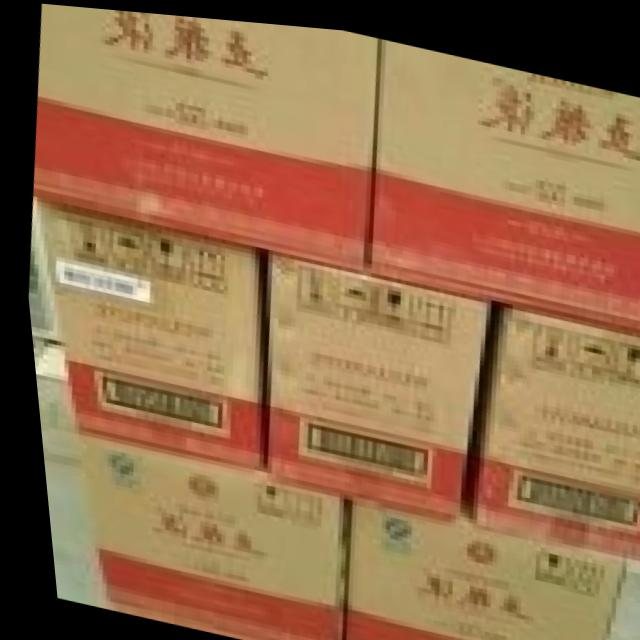box: (29, 3, 378, 270), (362, 31, 640, 328), (29, 200, 264, 464), (258, 254, 490, 513), (66, 429, 334, 640), (459, 298, 640, 556), (333, 495, 616, 640)
